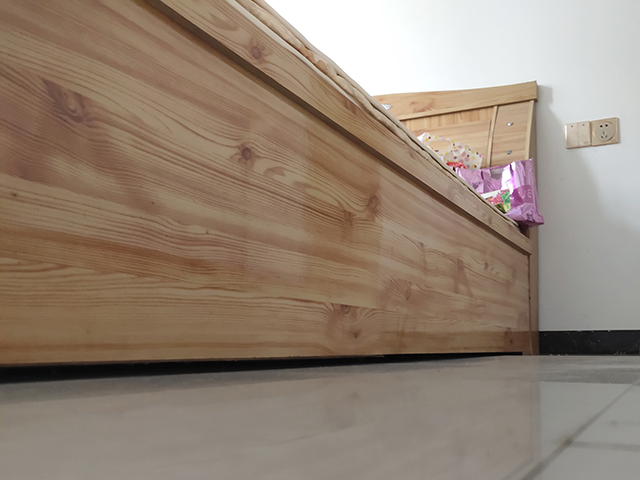bed: (1, 1, 543, 372)
